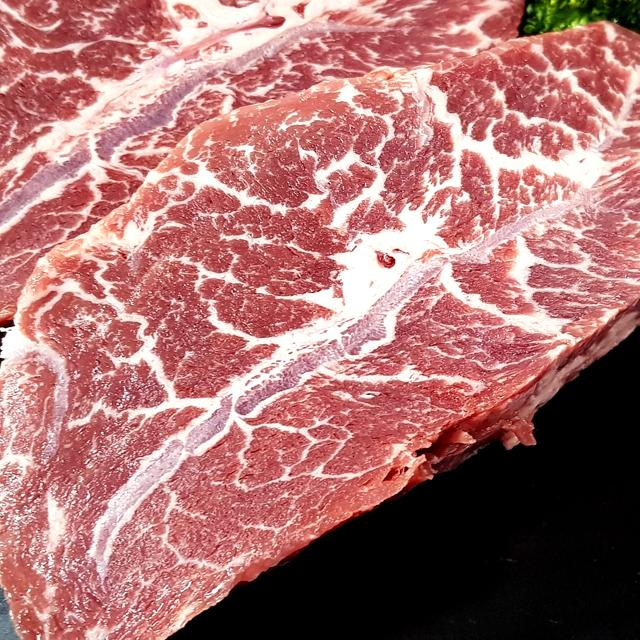beef: (117, 75, 479, 419), (193, 0, 500, 104), (0, 0, 138, 210)
